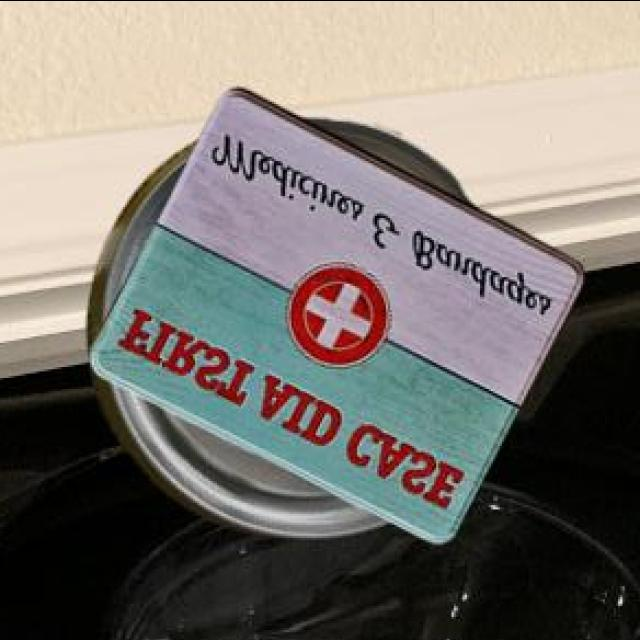logam: (87, 84, 580, 538), (84, 114, 468, 536)
